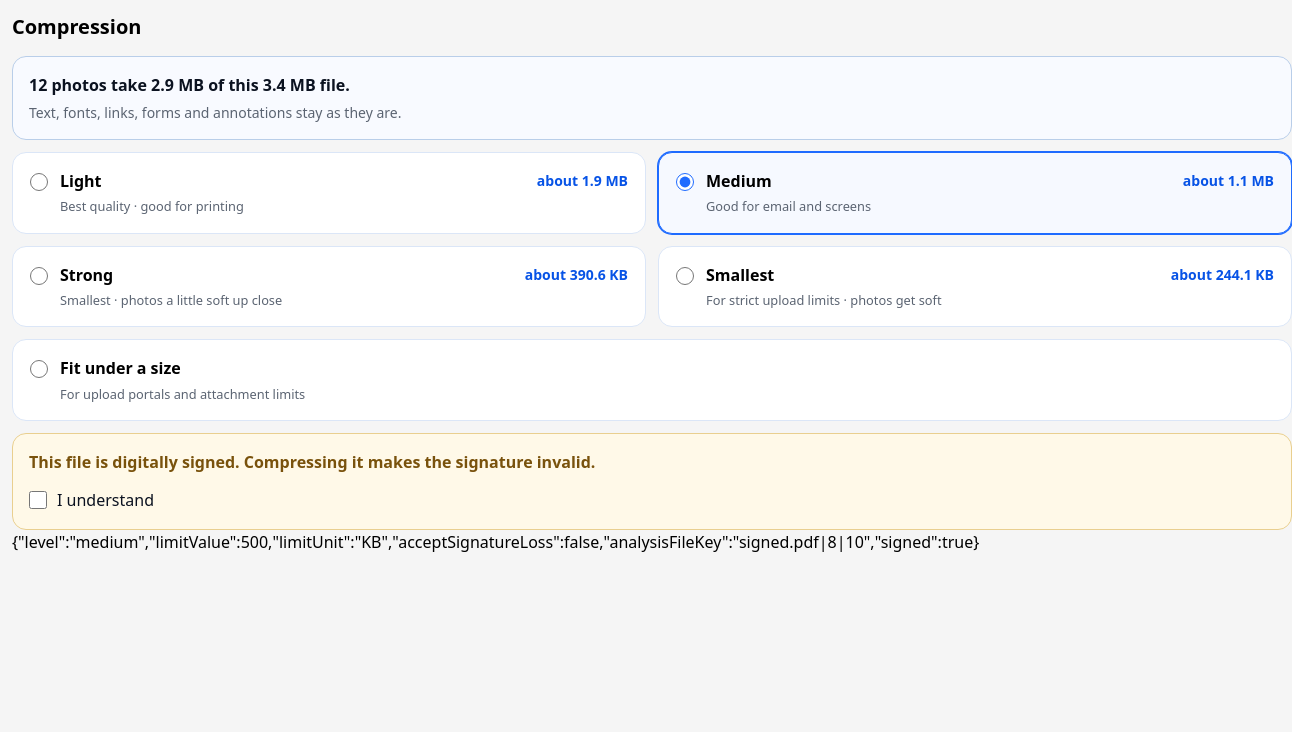
Test: CompressOptions › explains signed-file invalidation and records consent
The width and height of the screenshot is (1292, 732).
Expected: the text "This file is digitally signed. Compressing it makes the signature invalid." is shown, [29,451,595,473]
Click the checkbox labelled "I understand": point(38, 500) [29,491,47,509]
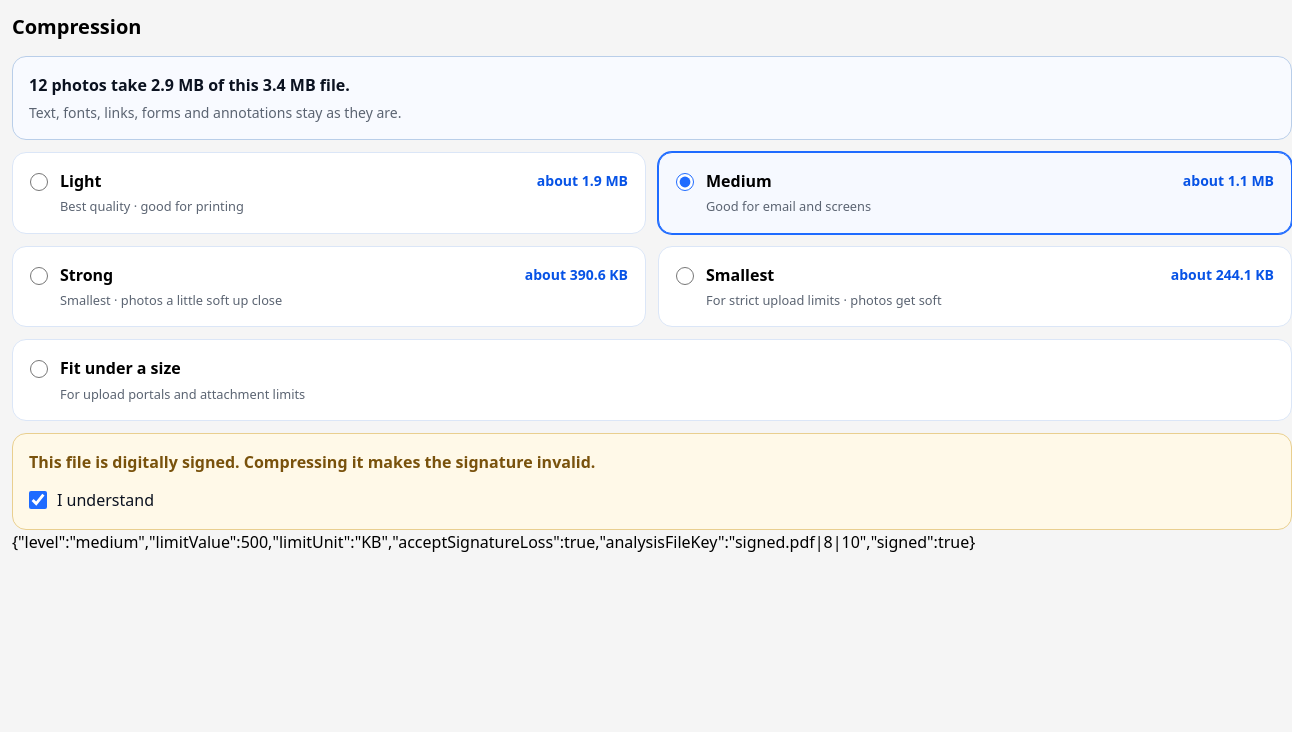
Expected: the text with test id "options" shows "\"acceptSignatureLoss\":true", [12,531,975,553]
